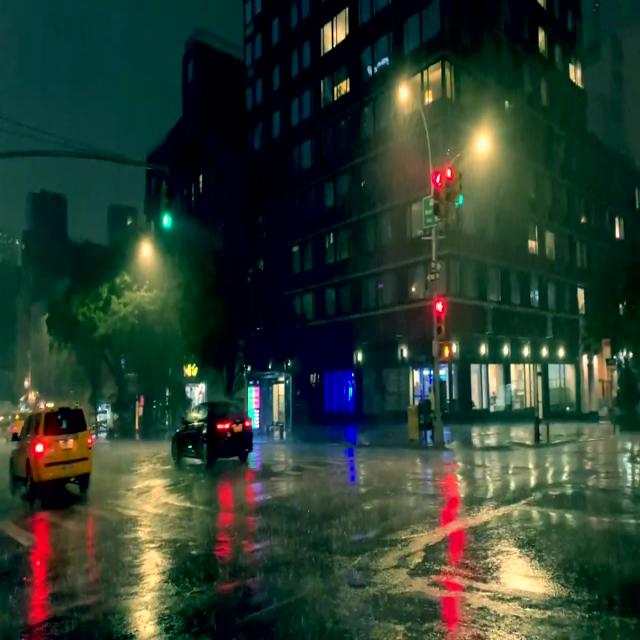Car: (7, 408, 90, 502), (169, 400, 250, 465)
